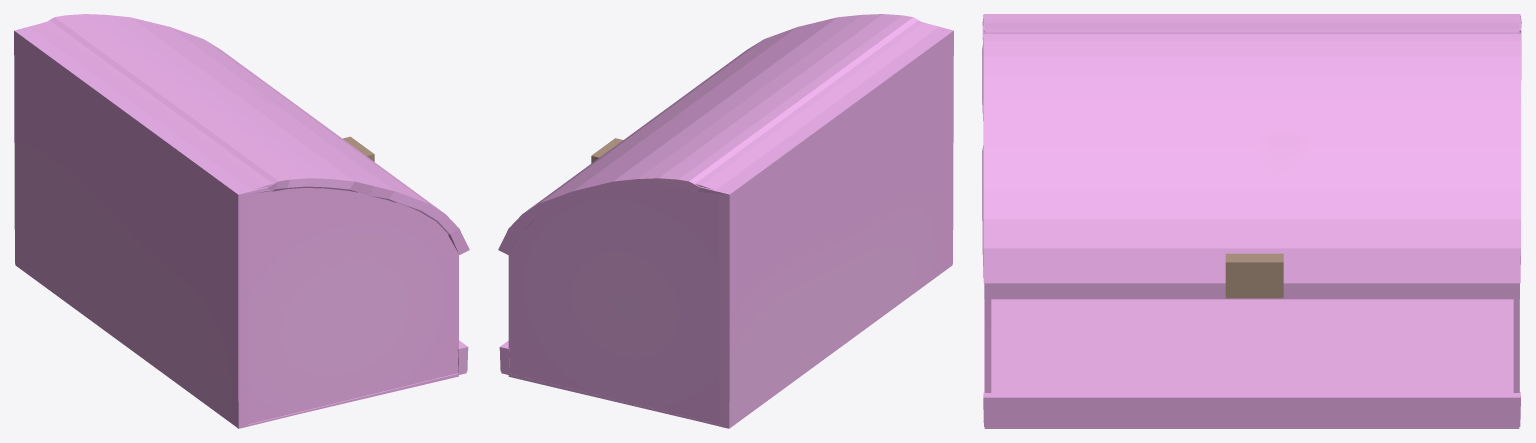
The model's file is EkmekKutusu.fbx.
3 views of the same model, side by side, from view 1: azimuth 30°, elevation 25°; view 2: azimuth 150°, elevation 25°; view 3: azimuth 270°, elevation 25° (orthographic). The views are drawn at different scales.
Parts seen in each view (by area): view 1: Cube.047; view 2: Cube.047; view 3: Cube.047.
Boxes of the visible parts, <box> form: Cube.047: <box>14,14,469,428</box>; Cube.047: <box>498,14,953,428</box>; Cube.047: <box>982,14,1521,428</box>.
Bounding box in the file's own units: 123 × 118 × 201.
